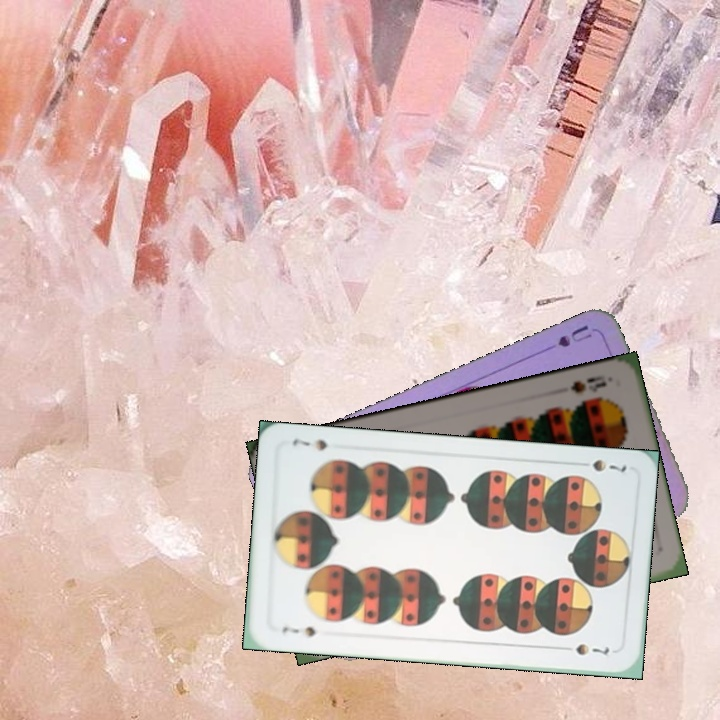S7: (572, 455, 629, 475), (278, 622, 319, 639)
S8: (567, 371, 610, 396)
SU: (537, 320, 595, 356)
